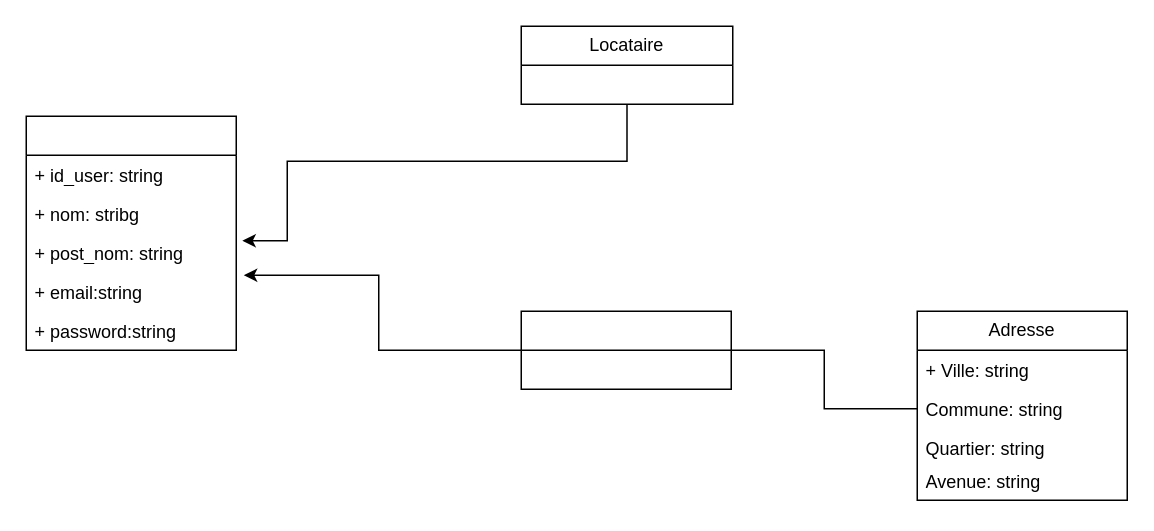
Image size: 1154x531. Some labels were removed from this diagram. Here are the shapes that lost their labels. From the top down, the box of each, then its label:
(25, 115, 236, 350): Utilisateur
(520, 310, 731, 389): Bailleur
